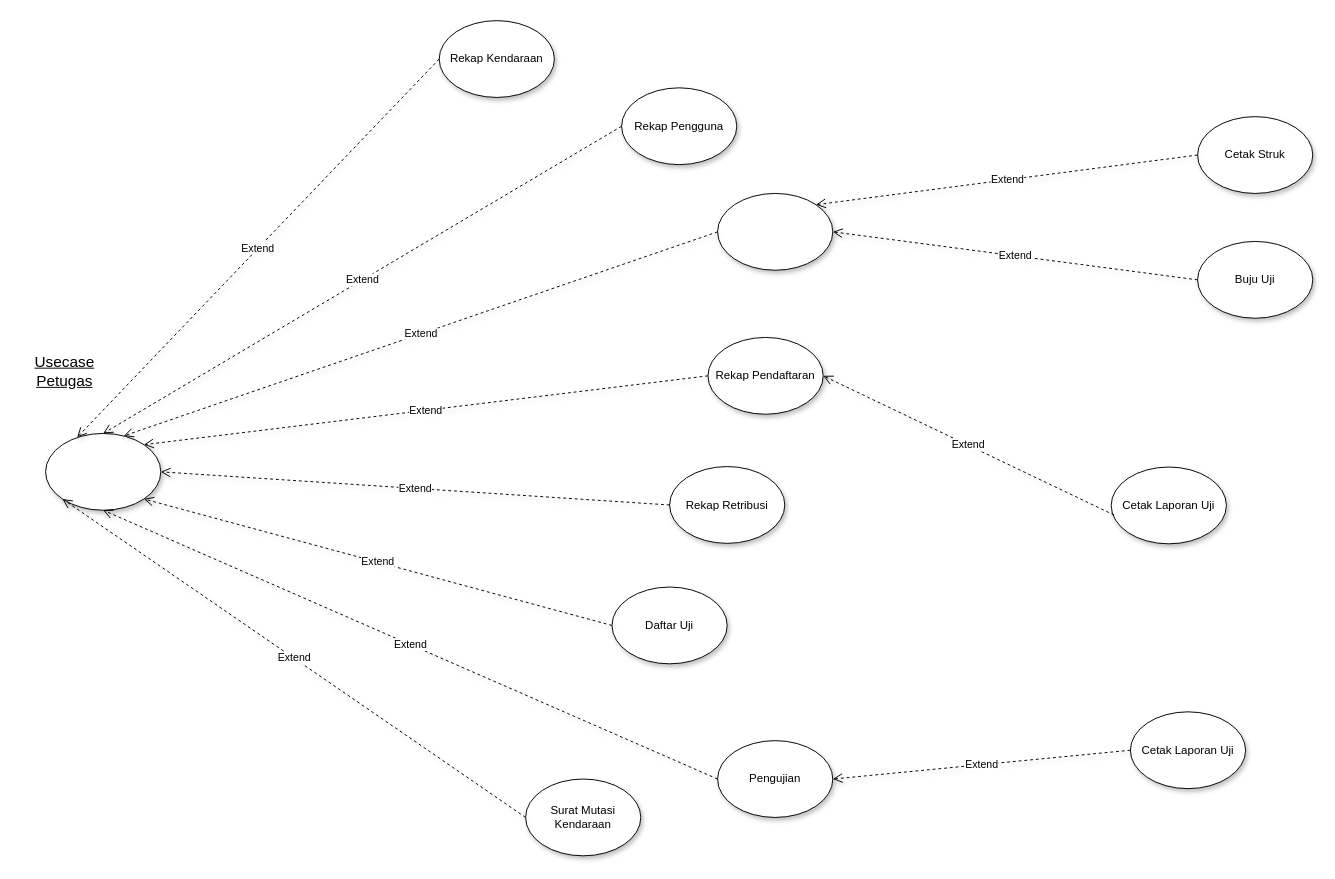
Image size: 1335x879. Some labels were removed from this diagram. Here are the shapes that lost their labels. From the top down, the centre of each, then its label:
point (776, 233): Rekap Pengujian
point (104, 473): Dashboarfd
